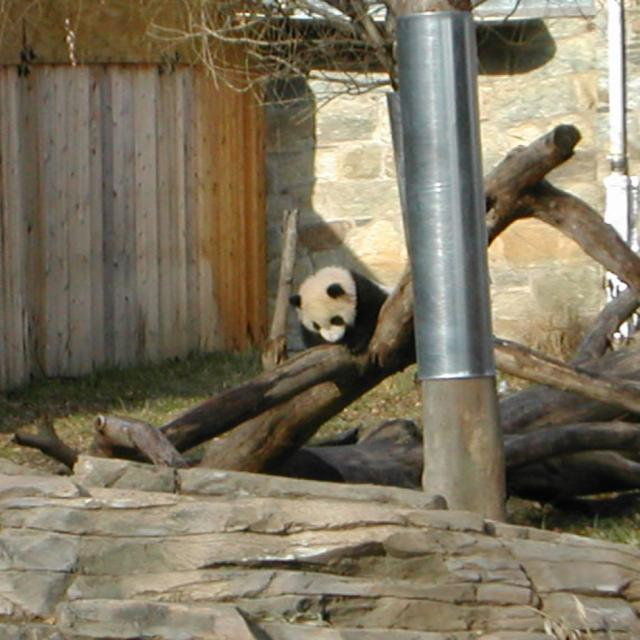panda: (289, 266, 391, 352)
